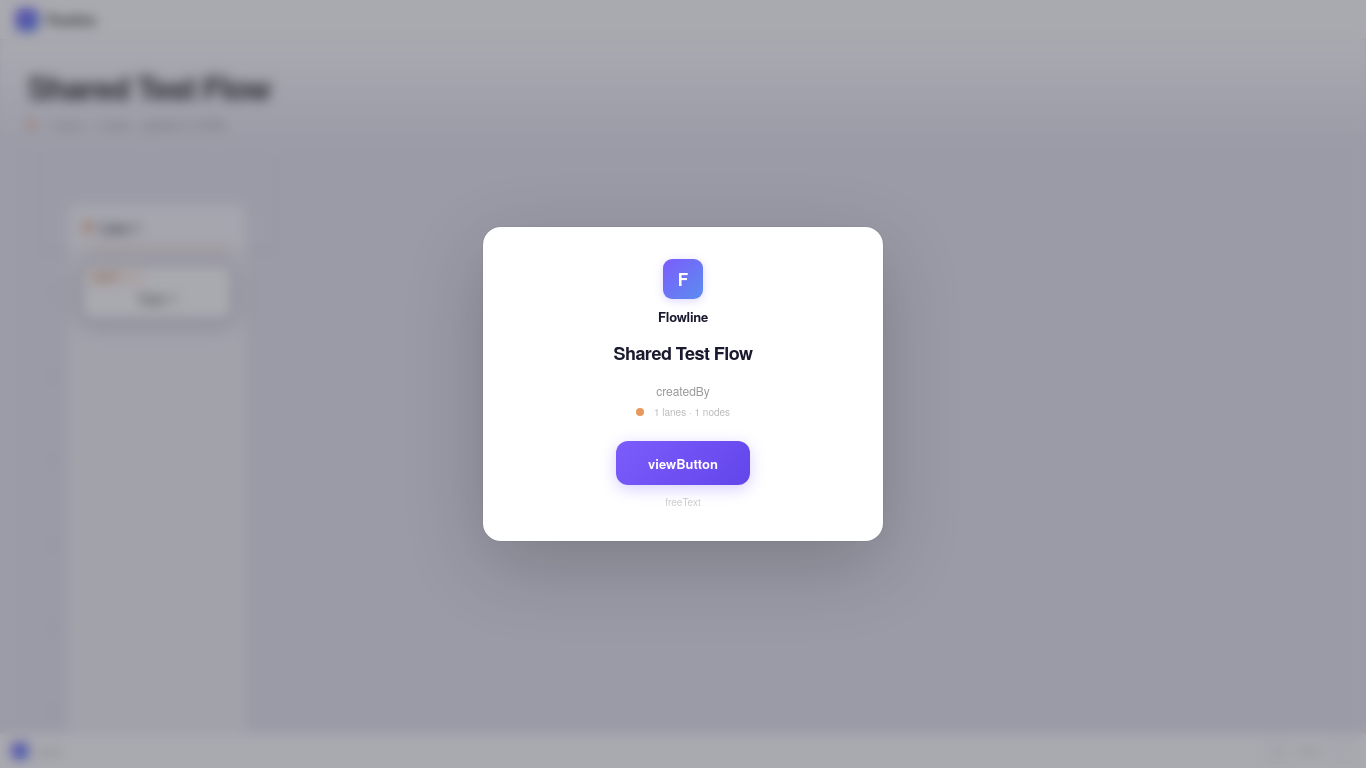
Test: SharedFlowPage › Teaser modal and bottom CTA bar › should hide teaser modal and remove blur after CTA click
Click the button "viewButton" at [683, 463], box left=616, top=441, right=750, bottom=485
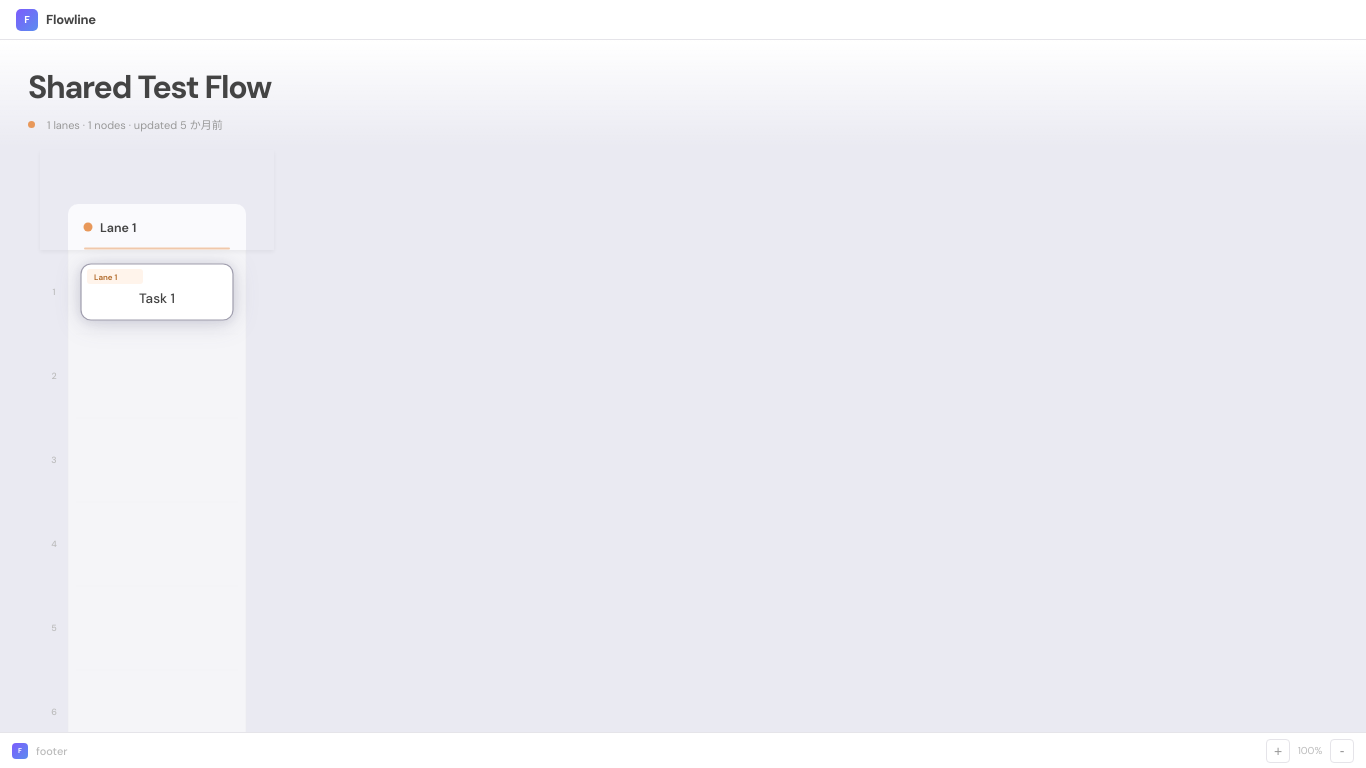
Expected: the element with test id "teaser-modal" is gone
